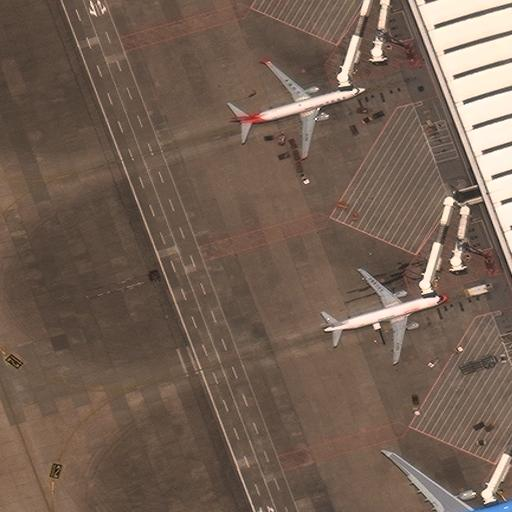Large Civil Transport: (355, 450, 512, 511)
Medium Civil Transport: (229, 60, 366, 157), (318, 268, 447, 362)
